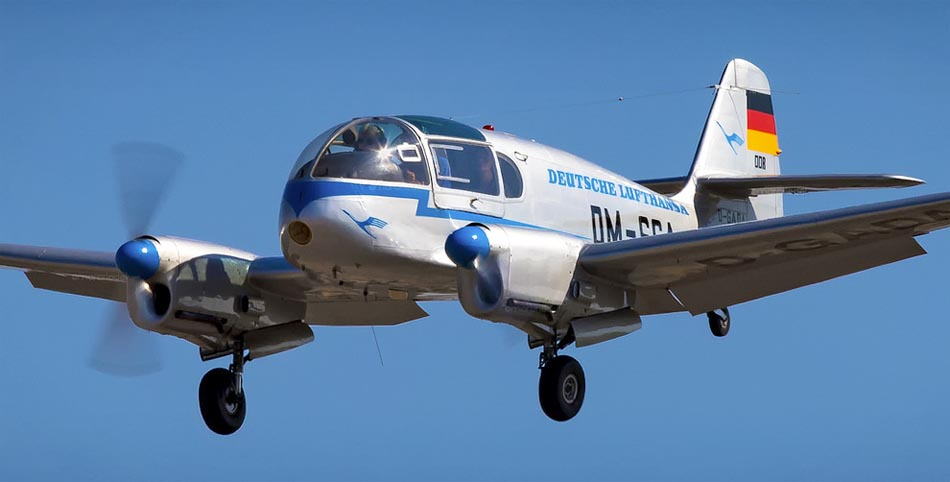Aeronef_commercial: (1, 47, 946, 426)
